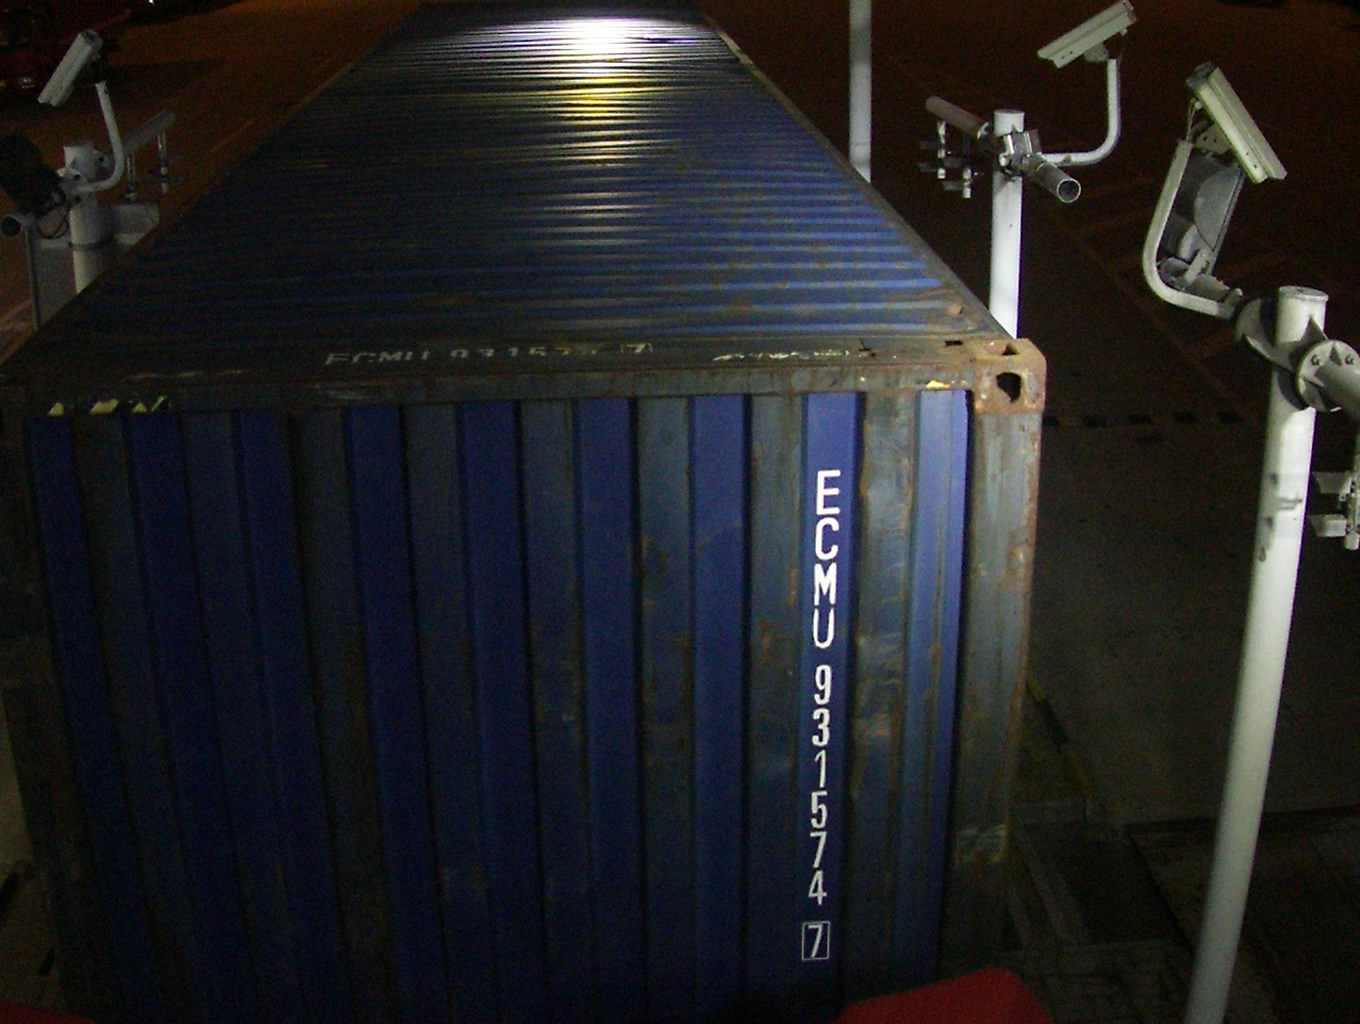words: (791, 457, 847, 975)
